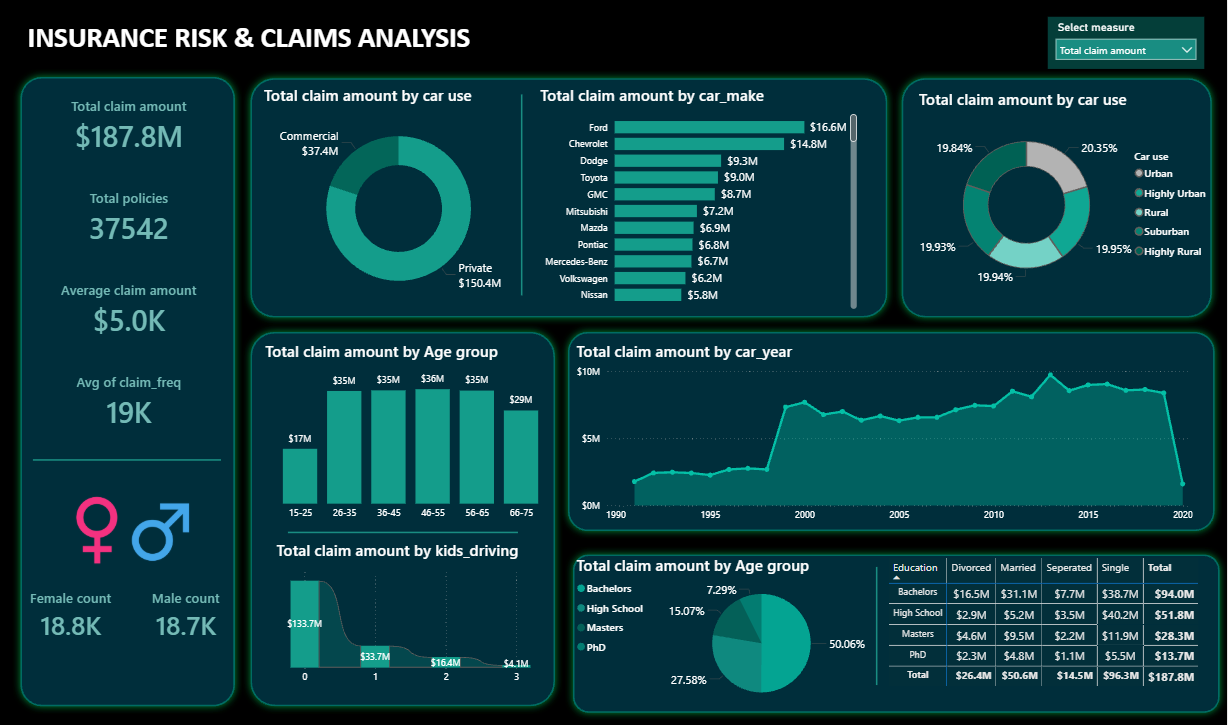

Layout of this report page (visuals, bound fields, positions):
{"tool":"powerbi","page":{"name":"Page 1","canvas":[1600,950],"ordinal":0},"visuals":[{"type":"textbox","box":[27.5,24.3,595.8,58.3],"z":0},{"type":"shape","box":[17.8,92.3,299.5,840.2],"z":1000},{"type":"cardVisual","fields":{"Data":["Data.Total claim amount","Data.Total policies","Data.Average claim amount","Sum(Data.claim_freq)"]},"box":[46.9,92.3,244.5,508.4],"z":2000},{"type":"cardVisual","fields":{"Data":["Data.Female count","Data.Male count"]},"box":[9.7,600.6,315.7,105.2],"z":3000},{"type":"slicer","fields":{"Values":["Select measure.Select measure"]},"box":[1366.4,24.3,204,68],"z":4000},{"type":"shape","box":[317.3,93.9,850,331.9],"z":5000},{"type":"donutChart","title":"Total claim amount by car use","fields":{"Y":["Data.Total claim amount"],"Category":["Data.car_use"]},"box":[340,111.7,361,297.9],"z":6000},{"type":"clusteredBarChart","fields":{"Y":["Data.Total claim amount"],"Category":["Data.car_make"]},"box":[701,111.7,422.5,297.9],"z":7000},{"type":"shape","box":[1165.7,93.9,424.2,331.9],"z":8000},{"type":"donutChart","title":"Total claim amount by car use","fields":{"Y":["Data.Total claim amount"],"Category":["Data.coverage_zone"]},"box":[1194.8,116.6,393.4,278.5],"z":9000},{"type":"shape","box":[325.4,425.8,417.7,506.7],"z":10000},{"type":"clusteredColumnChart","title":"Total claim amount by Age group","fields":{"Category":["Data.Age Group"],"Y":["Data.Total claim amount"]},"box":[341.6,446.8,390.2,242.8],"z":11000},{"type":"ribbonChart","fields":{"Y":["Data.Total claim amount"],"Category":["Data.kids_driving"]},"box":[356.2,705.9,359.4,197.5],"z":12000},{"type":"shape","box":[742.7,425.4,850.8,279.6],"z":13000},{"type":"stackedAreaChart","fields":{"Y":["Data.Total claim amount"],"Category":["Data.car_year"]},"box":[770.2,446,790.7,245.3],"z":14000},{"type":"shape","box":[744.4,705,849.1,226.4],"z":14001},{"type":"pieChart","title":"Total claim amount by Age group","fields":{"Category":["Data.Education"],"Y":["Data.Total claim amount"]},"box":[770.2,725.6,396.2,183.5],"z":14002}]}

Visuals, with their boxes in screenshot pixels (x1, y1, x2, y2), scaled from the page's 1600x950 canvas onto the 1228x725 screenshot:
textbox: box=[21, 19, 478, 63]
shape: box=[14, 70, 244, 712]
cardVisual - Data.Total claim amount x Data.Total policies: box=[36, 70, 224, 458]
cardVisual - Data.Female count x Data.Male count: box=[7, 458, 250, 539]
slicer - Select measure.Select measure: box=[1049, 19, 1205, 70]
shape: box=[244, 72, 896, 325]
"Total claim amount by car use" donutChart: box=[261, 85, 538, 313]
clusteredBarChart - Data.Total claim amount x Data.car_make: box=[538, 85, 862, 313]
shape: box=[895, 72, 1220, 325]
"Total claim amount by car use" donutChart: box=[917, 89, 1219, 302]
shape: box=[250, 325, 570, 712]
"Total claim amount by Age group" clusteredColumnChart: box=[262, 341, 562, 526]
ribbonChart - Data.Total claim amount x Data.kids_driving: box=[273, 539, 549, 689]
shape: box=[570, 325, 1223, 538]
stackedAreaChart - Data.Total claim amount x Data.car_year: box=[591, 340, 1198, 528]
shape: box=[571, 538, 1223, 711]
"Total claim amount by Age group" pieChart: box=[591, 554, 895, 694]
